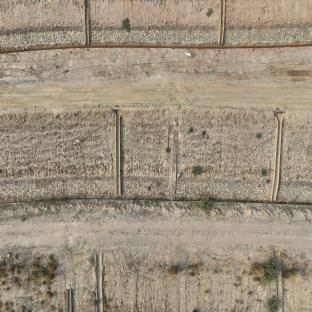rock_toe: (91, 26, 217, 44), (0, 179, 113, 199), (0, 27, 84, 48), (225, 26, 312, 44), (178, 181, 267, 198), (123, 180, 169, 197), (277, 184, 312, 202)
slope_drain: (270, 113, 284, 201), (113, 107, 121, 195), (274, 251, 283, 312), (171, 125, 178, 200), (96, 253, 103, 312), (218, 0, 225, 46), (85, 0, 90, 45), (67, 288, 72, 312)
toe_drain: (0, 42, 312, 58), (1, 196, 312, 209)
